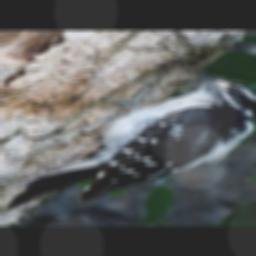Woodpecker: (1, 69, 256, 208)
